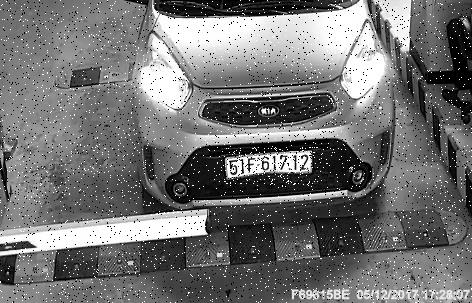License-plate: (223, 149, 325, 188)
